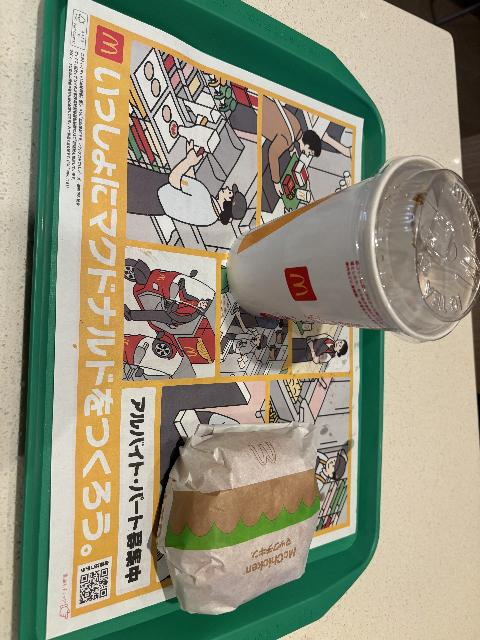burger: (154, 424, 324, 617)
drink: (220, 152, 480, 345)
